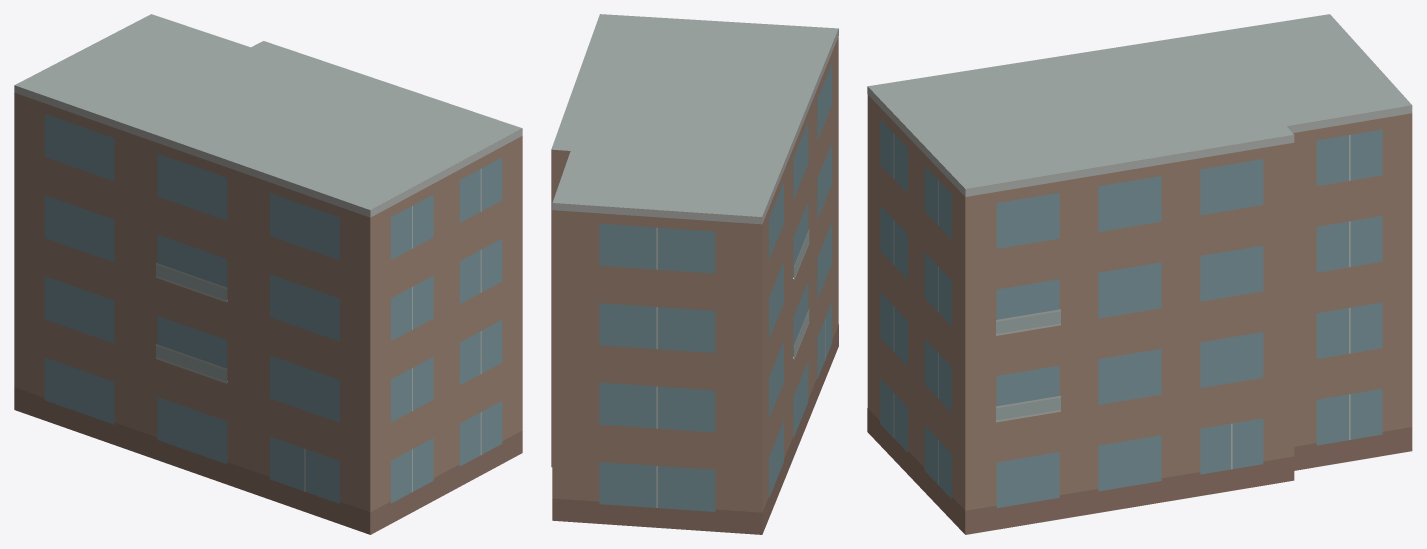
Rendered from survey-upis-32889636.glb.
3 renders of one model, left to right at view 1: azimuth 30°, elevation 25°; view 2: azimuth 150°, elevation 25°; view 3: azimuth 270°, elevation 25°, orthographic. The views are drawn at different scales.
Parts seen in each view (by area): view 1: survey-upis-32889636.tmp; view 2: survey-upis-32889636.tmp; view 3: survey-upis-32889636.tmp.
Part boxes in pixels (x1,y1,x2,y2): survey-upis-32889636.tmp: [14, 14, 522, 534]; survey-upis-32889636.tmp: [551, 14, 838, 534]; survey-upis-32889636.tmp: [867, 14, 1412, 534].
Size of the model in its own units: 11.63 by 10.7 by 15.29.
